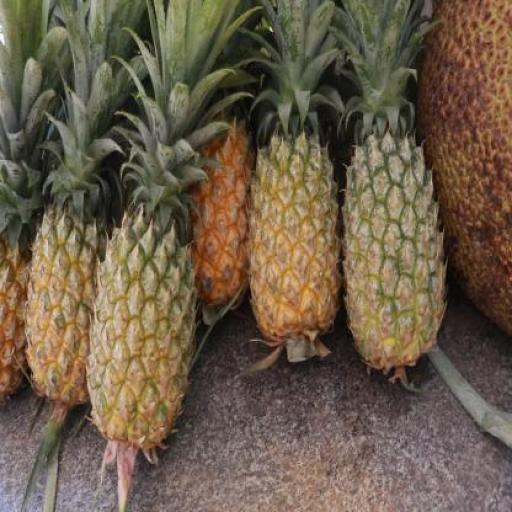------------------------------: (90, 218, 194, 440)
Pineapple - v8 v1: (245, 136, 337, 339), (24, 215, 105, 410), (190, 122, 256, 316)
